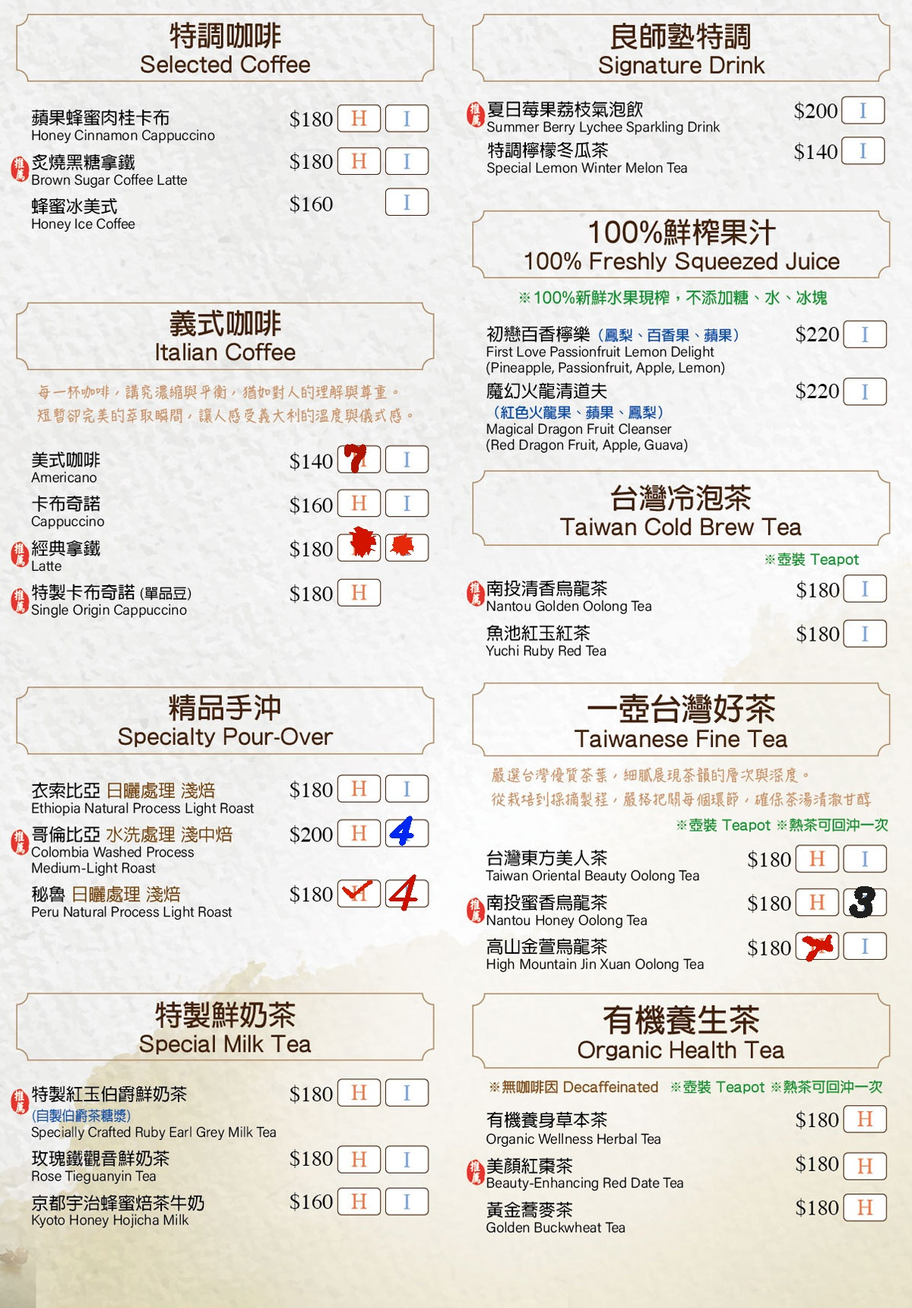marked_circle: (339, 535, 378, 559), (388, 535, 426, 559)
marked_number_3: (844, 890, 883, 914)
marked_number_4: (385, 822, 424, 845), (387, 881, 426, 904)
marked_number_7: (340, 447, 378, 470)
marked_tick: (338, 879, 377, 903)
marked_x: (798, 933, 837, 956)
